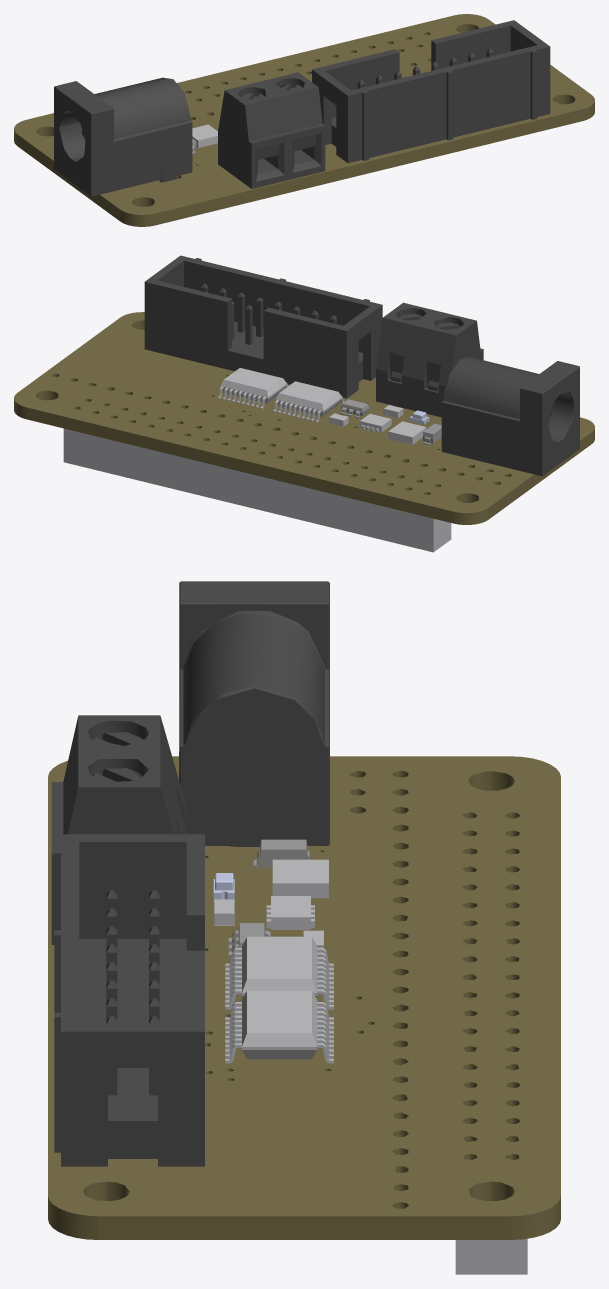
Rendered from ada-3211.glb.
3 views of the same model, one above another, from view 1: azimuth 30°, elevation 25°; view 2: azimuth 150°, elevation 25°; view 3: azimuth 270°, elevation 25° (orthographic). The views are drawn at different scales.
Parts seen in each view (by area): view 1: 0.08333333333333333_0.08333333333333333_0.08333333333333333_, 0.16666666666666666_0.16666666666666666_0.08333333333333333_, 0.5833333333333334_0.5833333333333334_0.5833333333333334_0.8; view 2: 0.08333333333333333_0.08333333333333333_0.08333333333333333_, 0.16666666666666666_0.16666666666666666_0.08333333333333333_, 0.5833333333333334_0.5833333333333334_0.5833333333333334_0.8, 0.3333333333333333_0.3333333333333333_0.3333333333333333_0; view 3: 0.16666666666666666_0.16666666666666666_0.08333333333333333_, 0.08333333333333333_0.08333333333333333_0.08333333333333333_, 0.5833333333333334_0.5833333333333334_0.5833333333333334_0.8, 0.3333333333333333_0.3333333333333333_0.3333333333333333_0.
Boxes of the visible parts, x1,y1,x2,y2 form: 0.08333333333333333_0.08333333333333333_0.08333333333333333_: (54, 20, 550, 196); 0.16666666666666666_0.16666666666666666_0.08333333333333333_: (14, 14, 594, 226); 0.5833333333333334_0.5833333333333334_0.5833333333333334_0.8: (192, 124, 217, 147); 0.08333333333333333_0.08333333333333333_0.08333333333333333_: (144, 255, 579, 476); 0.16666666666666666_0.16666666666666666_0.08333333333333333_: (14, 312, 594, 524); 0.5833333333333334_0.5833333333333334_0.5833333333333334_0.8: (63, 368, 451, 552); 0.3333333333333333_0.3333333333333333_0.3333333333333333_0: (340, 399, 441, 445); 0.16666666666666666_0.16666666666666666_0.08333333333333333_: (48, 756, 560, 1239); 0.08333333333333333_0.08333333333333333_0.08333333333333333_: (51, 581, 329, 1166); 0.5833333333333334_0.5833333333333334_0.5833333333333334_0.8: (214, 859, 527, 1274); 0.3333333333333333_0.3333333333333333_0.3333333333333333_0: (228, 839, 310, 957).
Bounding box in the file's own units: 6.62 × 1.81 × 3.07.
